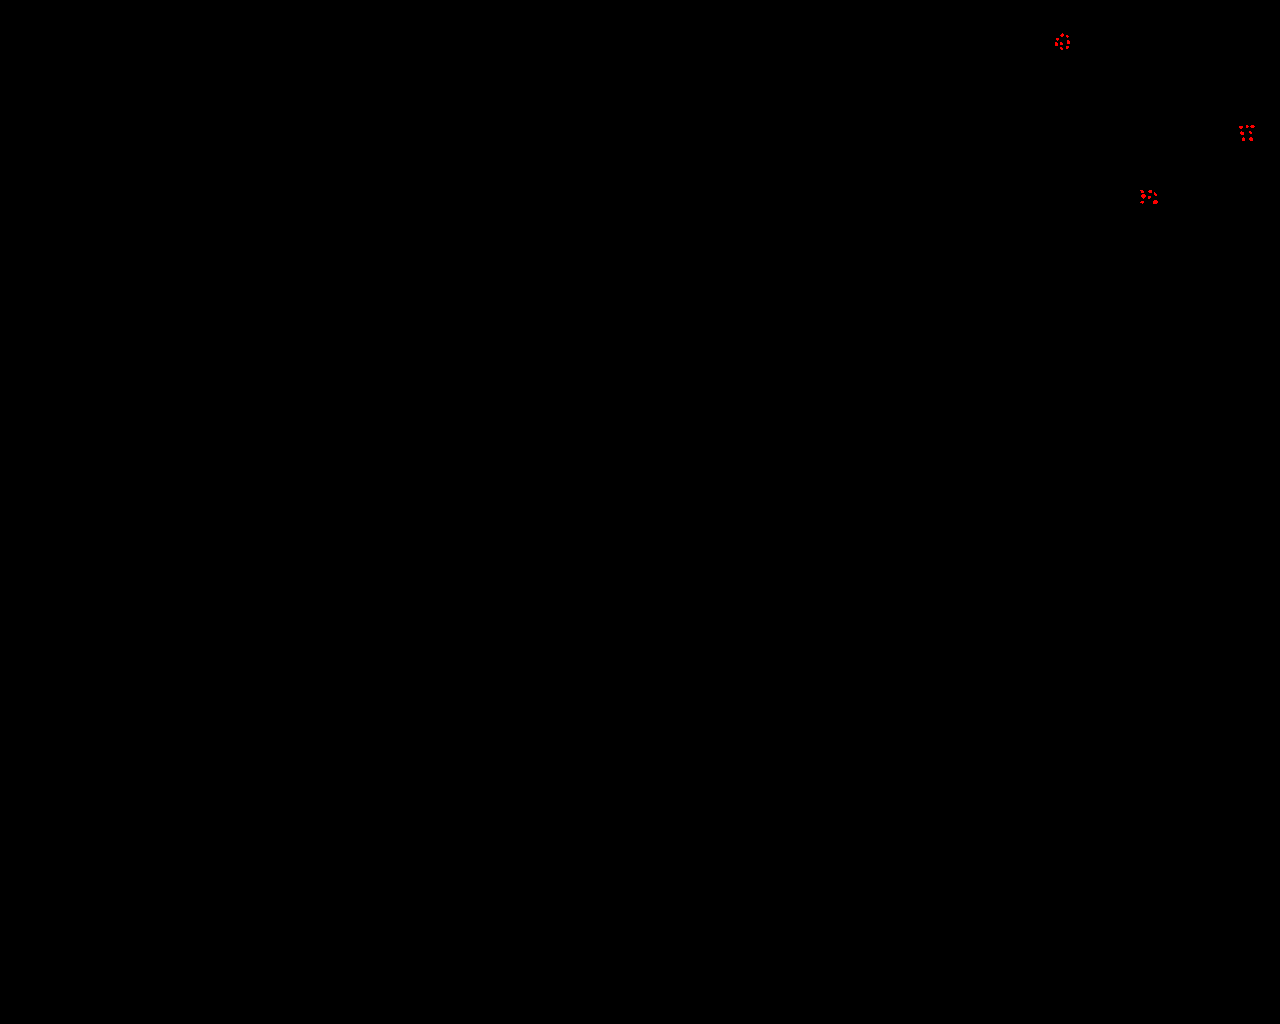Target: (1141, 194, 1146, 199), (1153, 200, 1158, 204), (1240, 131, 1244, 135), (1249, 137, 1253, 141), (1060, 33, 1064, 37), (1067, 40, 1070, 44), (1055, 42, 1058, 46), (1242, 137, 1246, 141), (1140, 190, 1144, 193), (1154, 192, 1157, 196), (1140, 201, 1144, 204), (1250, 125, 1255, 127), (1066, 34, 1069, 38), (1060, 42, 1063, 45), (1066, 46, 1069, 49), (1060, 47, 1063, 50), (1249, 131, 1252, 134), (1148, 190, 1151, 193), (1239, 126, 1243, 129), (1056, 38, 1058, 41), (1246, 125, 1249, 127), (1148, 196, 1151, 199)
